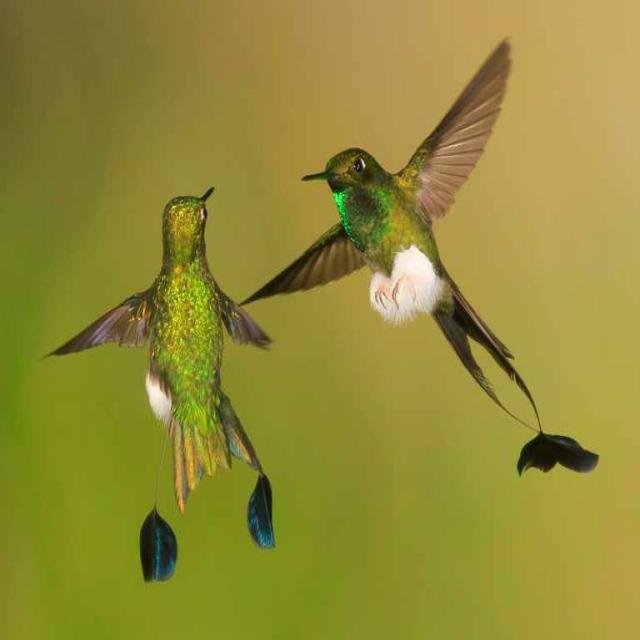Humming Bird: (244, 35, 602, 478), (82, 184, 276, 582)
